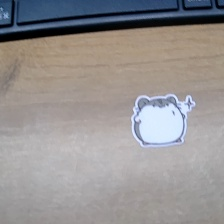mouse: (130, 90, 197, 148)
